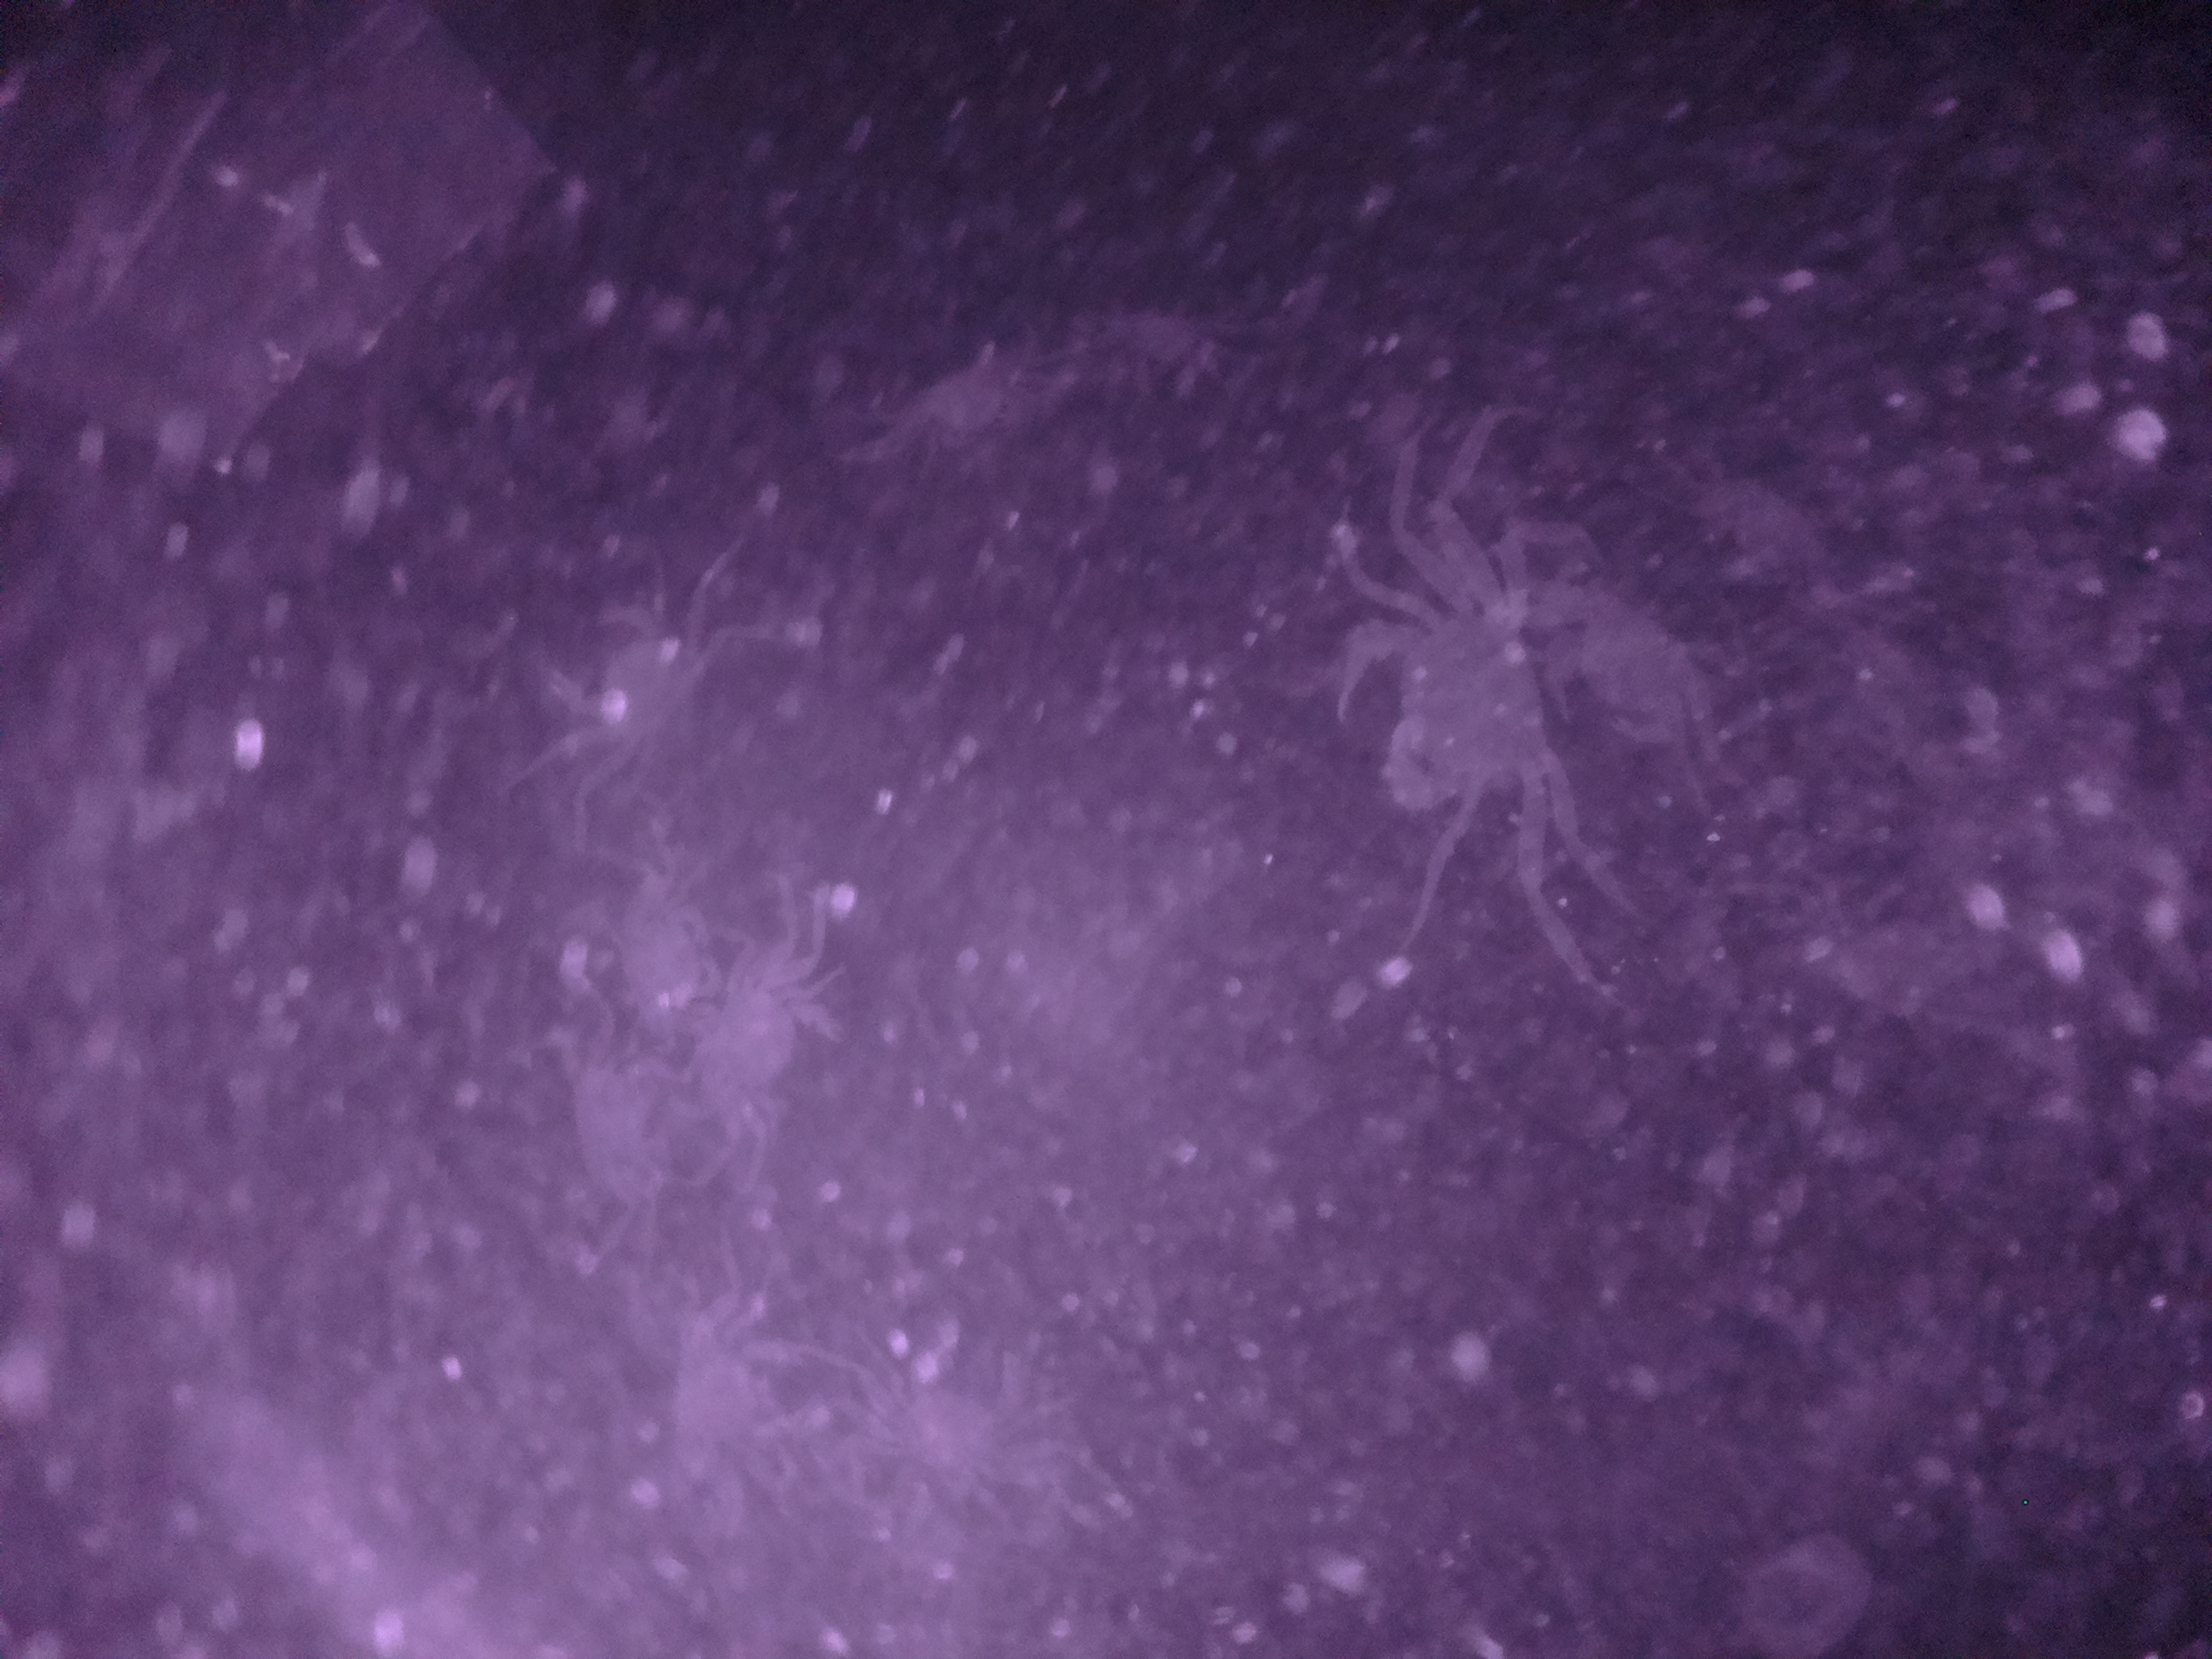Crab: (1318, 533, 1571, 859), (683, 920, 850, 1155)
